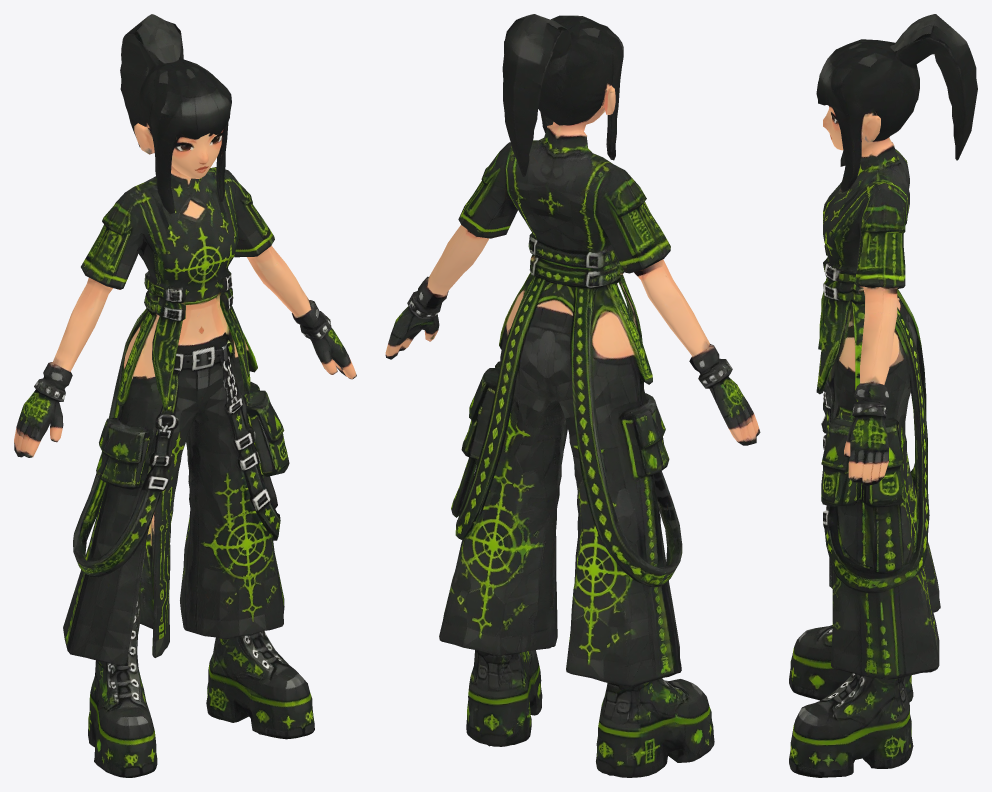
The model's file is Cyberdome.glb.
The picture shows the model from 3 angles, left to right: view 1: azimuth 30°, elevation 25°; view 2: azimuth 150°, elevation 25°; view 3: azimuth 270°, elevation 25°; orthographic projection. The views are drawn at different scales.
Size of the model in its own units: 0.9667 by 1.91 by 0.4579.
Materials: 1 (1 with a texture image).
